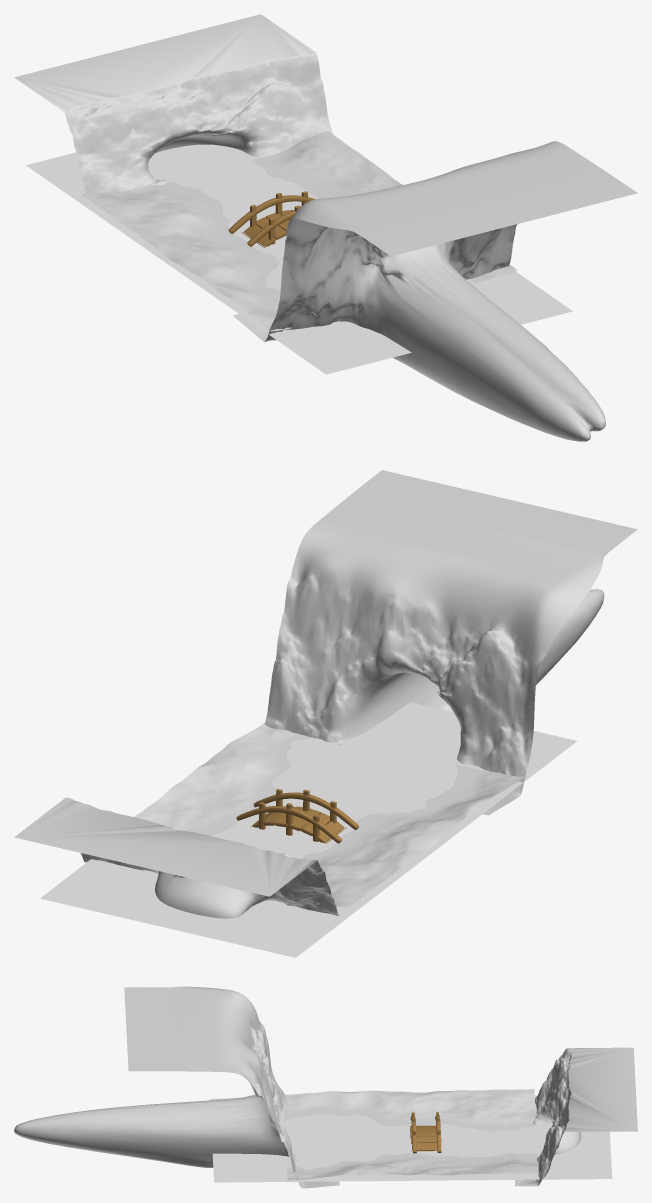
The model's file is river.fbx.
3 renders of one model, top to bottom at view 1: azimuth 30°, elevation 25°; view 2: azimuth 150°, elevation 25°; view 3: azimuth 270°, elevation 25°, orthographic. The views are drawn at different scales.
Parts seen in each view (by area): view 1: landH, LandI, Landscape_plane, LandJ, Bridge_Small; view 2: landH, Landscape_plane, LandJ, LandI, Bridge_Small; view 3: landH, Landscape_plane, LandJ, LandI, Bridge_Small.
Part boxes in pixels (x1=…): landH: x1=233, y1=141, x2=637, y2=441; LandI: x1=14, y1=14, x2=333, y2=201; Landscape_plane: x1=26, y1=144, x2=572, y2=374; LandJ: x1=81, y1=131, x2=517, y2=331; Bridge_Small: x1=228, y1=191, x2=314, y2=247; landH: x1=264, y1=470, x2=637, y2=815; Landscape_plane: x1=40, y1=702, x2=576, y2=957; LandJ: x1=134, y1=723, x2=523, y2=908; LandI: x1=14, y1=797, x2=338, y2=918; Bridge_Small: x1=236, y1=789, x2=358, y2=843; landH: x1=14, y1=986, x2=339, y2=1188; Landscape_plane: x1=210, y1=1095, x2=612, y2=1182; LandJ: x1=283, y1=1089, x2=538, y2=1180; LandI: x1=515, y1=1047, x2=637, y2=1186; Bridge_Small: x1=409, y1=1112, x2=441, y2=1153.
Bounding box in the file's own units: 1119 × 789 × 3280.
